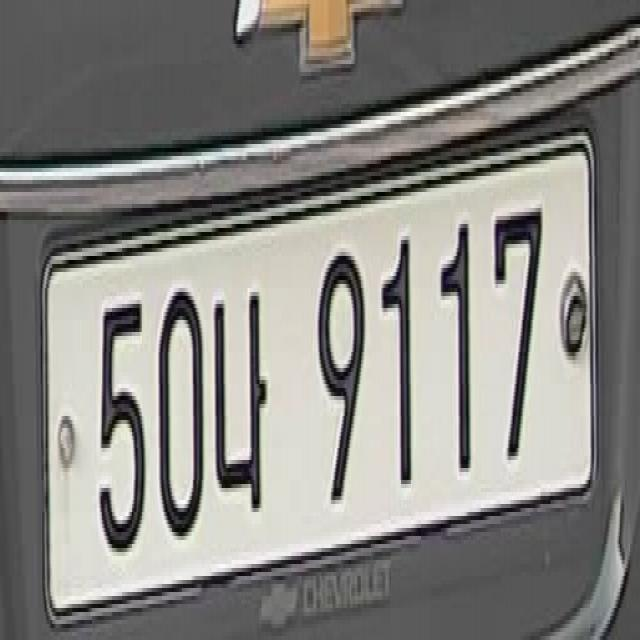0: (154, 272, 208, 546)
1: (434, 216, 482, 489), (377, 222, 417, 512)
5: (90, 287, 147, 569)
7: (491, 192, 544, 482)
9: (310, 225, 367, 532)
license_plate: (31, 98, 611, 636)
na: (210, 270, 274, 546)
